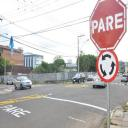Rotatoria: (95, 50, 119, 84)
